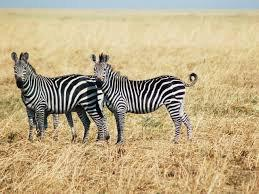Zebra: (92, 53, 196, 142), (12, 52, 108, 141)
